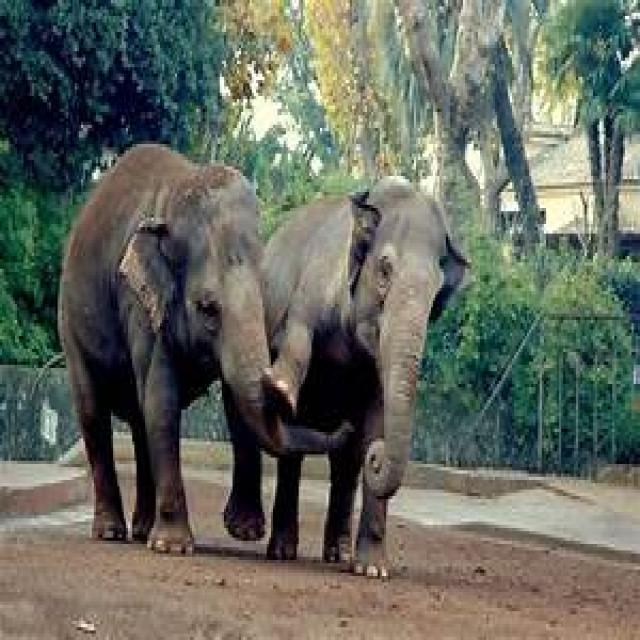elephant: (58, 144, 299, 560), (260, 176, 471, 576)
